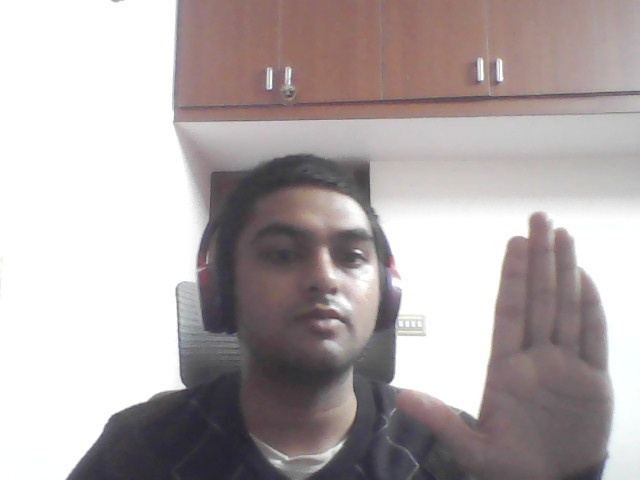Hello: (370, 184, 628, 480)
